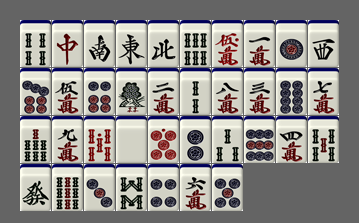0m: (212, 20, 243, 67)
0p: (148, 116, 179, 163)
0s: (84, 116, 115, 163)
1m: (244, 20, 275, 67)
1p: (276, 20, 307, 67)
1s: (116, 68, 147, 115)
1z: (116, 20, 147, 67)
2m: (148, 68, 179, 115)
2p: (180, 116, 211, 163)
2s: (180, 68, 211, 115)
2z: (84, 20, 115, 67)
3m: (244, 68, 275, 115)
3p: (84, 164, 115, 211)
3s: (212, 116, 243, 163)
3z: (308, 20, 339, 67)
4m: (276, 116, 307, 163)
4p: (148, 164, 179, 211)
4s: (20, 20, 51, 67)
4z: (148, 20, 179, 67)
5m: (52, 68, 83, 115)
5p: (212, 164, 243, 211)
5s: (308, 116, 339, 163)
5z: (116, 116, 147, 163)
6m: (180, 164, 211, 211)
6p: (84, 68, 115, 115)
6s: (180, 20, 211, 67)
6z: (20, 164, 51, 211)
7m: (308, 68, 339, 115)
7p: (20, 68, 51, 115)
7s: (20, 116, 51, 163)
7z: (52, 20, 83, 67)
8m: (212, 68, 243, 115)
8p: (276, 68, 307, 115)
8s: (116, 164, 147, 211)
9m: (52, 116, 83, 163)
9p: (244, 116, 275, 163)
9s: (52, 164, 83, 211)
